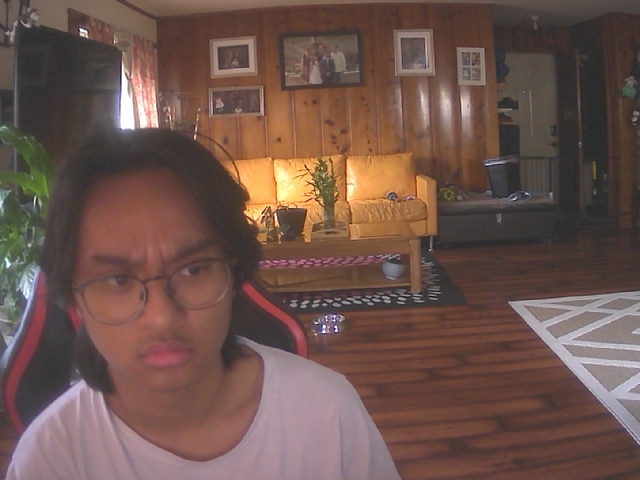anger: (60, 146, 249, 397)
